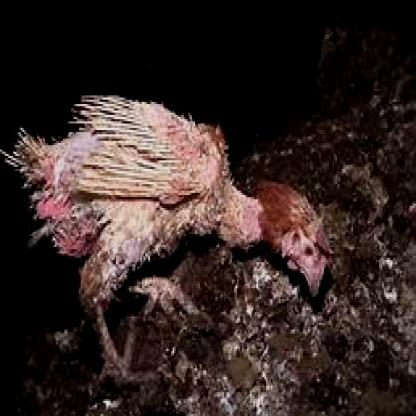chicken: (0, 97, 339, 388)
